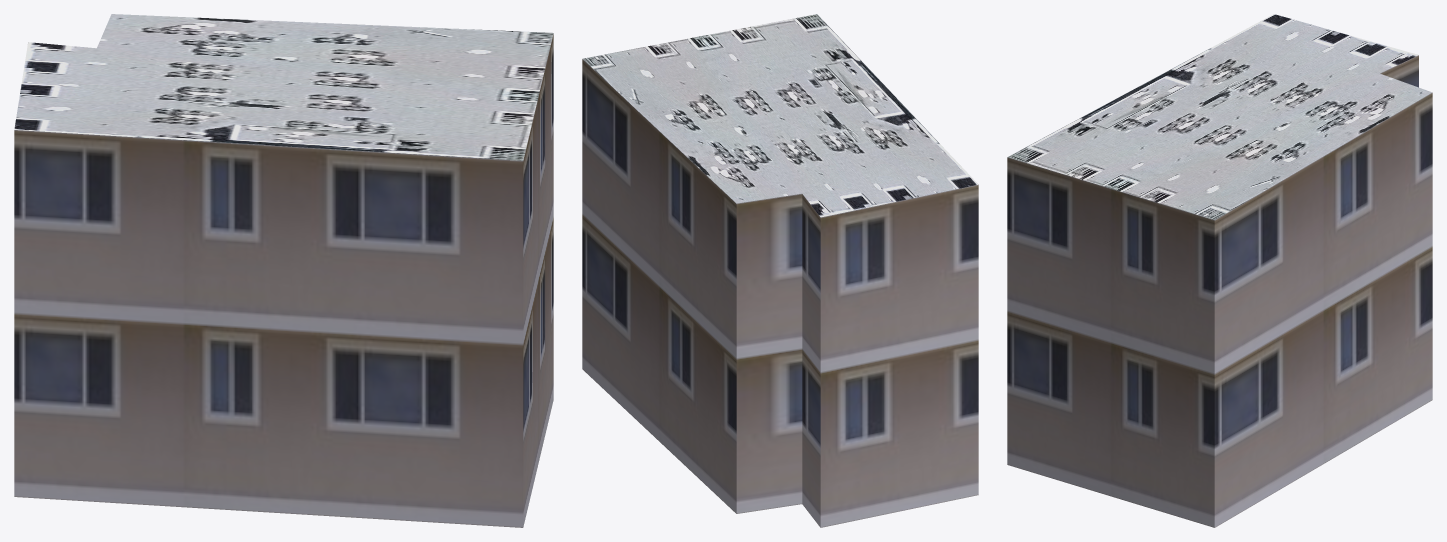
The model's file is ResTex__998.fbx.
3 views of the same model, side by side, from view 1: azimuth 30°, elevation 25°; view 2: azimuth 150°, elevation 25°; view 3: azimuth 270°, elevation 25° (orthographic). The views are drawn at different scales.
Visible parts, largest first — view 1: CityEngineMaterial_21_m, CityEngineMaterial_8_m; view 2: CityEngineMaterial_21_m, CityEngineMaterial_8_m; view 3: CityEngineMaterial_21_m, CityEngineMaterial_8_m.
Boxes of the visible parts, x1,y1,x2,y2 form: CityEngineMaterial_21_m: (14, 34, 553, 527); CityEngineMaterial_8_m: (14, 14, 553, 160); CityEngineMaterial_21_m: (582, 59, 978, 527); CityEngineMaterial_8_m: (582, 14, 978, 217); CityEngineMaterial_21_m: (1007, 55, 1432, 527); CityEngineMaterial_8_m: (1007, 14, 1432, 219).
Size of the model in its own units: 8.62 by 6 by 7.51.
Materials: 2 (2 with a texture image).
